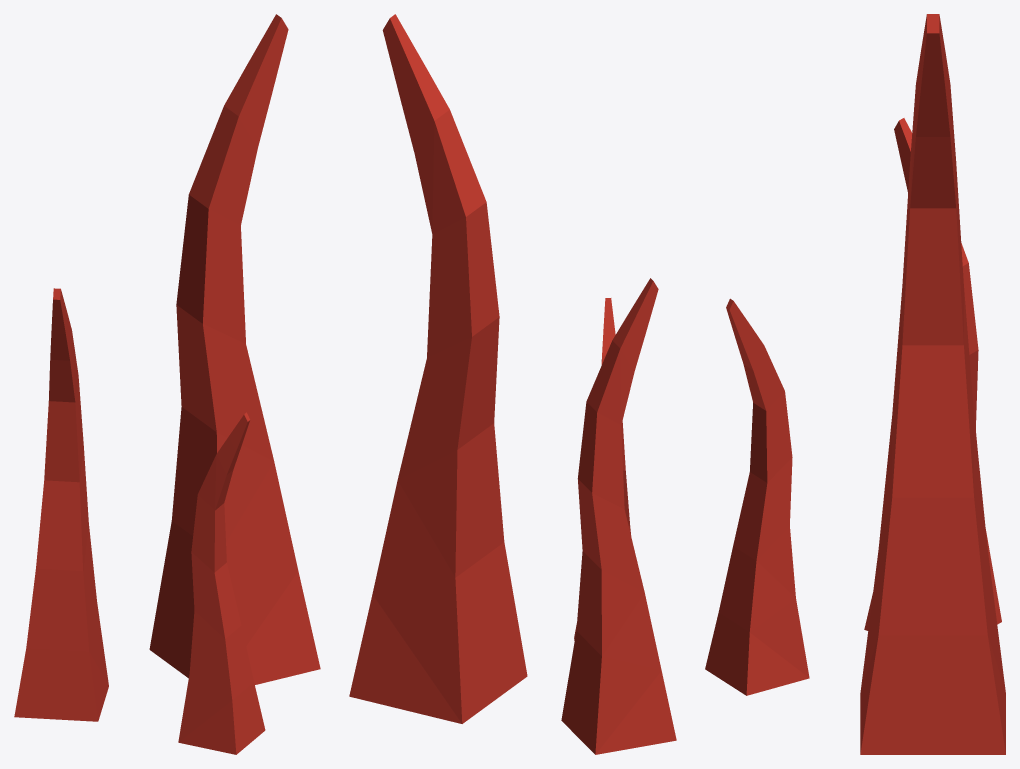
File: world_2_grass_3.dae
3 renders of one model, left to right at view 1: azimuth 30°, elevation 25°; view 2: azimuth 150°, elevation 25°; view 3: azimuth 270°, elevation 25°, orthographic. The views are drawn at different scales.
Visible parts, largest first — view 1: grass_3; view 2: grass_3; view 3: grass_3.
Part boxes in pixels (<box>): grass_3: <box>14,14,320,754</box>; grass_3: <box>349,14,676,754</box>; grass_3: <box>705,14,1005,754</box>.
Bounding box in the file's own units: 0.2571 × 0.2067 × 0.5571.
